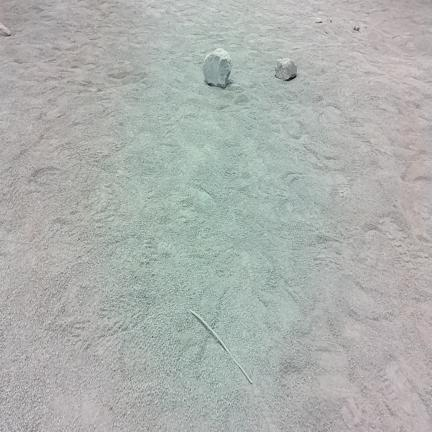Rock: (204, 48, 232, 88), (275, 59, 297, 80), (0, 23, 11, 36), (316, 18, 322, 23), (354, 26, 359, 31), (327, 18, 332, 22)
